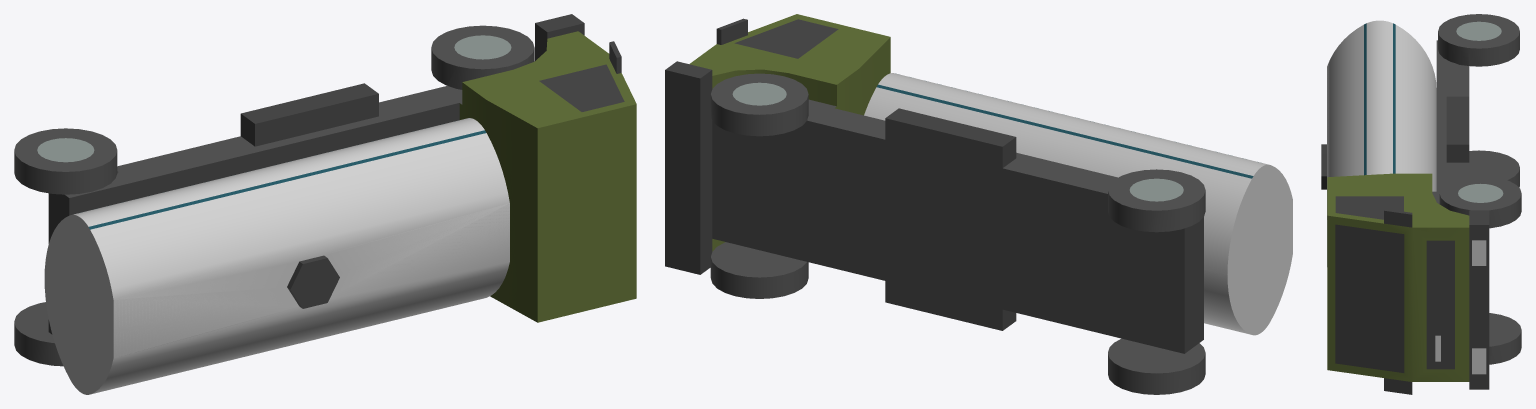
The model's file is tank_truck.dae.
The picture shows the model from 3 angles, left to right: view 1: azimuth 30°, elevation 25°; view 2: azimuth 150°, elevation 25°; view 3: azimuth 270°, elevation 25°; orthographic projection. The views are drawn at different scales.
Visible parts, largest first — view 1: coords_ME_ID19_MA___auto_218, coords_ME_ID33_MA___auto_4, coords_ME_ID11_MA_material, coords_ME_ID27_MA___auto_, coords_ME_ID3_MA___auto_, coords_ME_ID99_MA___auto_, coords_ME_ID67_MA___auto_, coords_ME_ID117_MA___auto_275, coords_ME_ID79_MA___auto_8, coords_ME_ID141_MA___auto_8, coords_ME_ID47_MA___auto_; view 2: coords_ME_ID11_MA_material, coords_ME_ID19_MA___auto_218, coords_ME_ID47_MA___auto_, coords_ME_ID33_MA___auto_4, coords_ME_ID27_MA___auto_, coords_ME_ID99_MA___auto_, coords_ME_ID3_MA___auto_, coords_ME_ID73_MA___auto_275, coords_ME_ID141_MA___auto_8, coords_ME_ID79_MA___auto_8, coords_ME_ID87_MA___auto_; view 3: coords_ME_ID19_MA___auto_218, coords_ME_ID33_MA___auto_4, coords_ME_ID11_MA_material, coords_ME_ID129_MA___auto_, coords_ME_ID93_MA___auto_, coords_ME_ID47_MA___auto_, coords_ME_ID3_MA___auto_, coords_ME_ID99_MA___auto_, coords_ME_ID141_MA___auto_8, coords_ME_ID79_MA___auto_8, coords_ME_ID117_MA___auto_275, coords_ME_ID73_MA___auto_275 (+5 smaller).
Part boxes in pixels (bbox=[...]): coords_ME_ID19_MA___auto_218: bbox=[44, 118, 509, 394]; coords_ME_ID33_MA___auto_4: bbox=[459, 31, 636, 322]; coords_ME_ID11_MA_material: bbox=[14, 25, 534, 366]; coords_ME_ID27_MA___auto_: bbox=[48, 103, 459, 334]; coords_ME_ID3_MA___auto_: bbox=[240, 83, 378, 146]; coords_ME_ID99_MA___auto_: bbox=[539, 64, 624, 111]; coords_ME_ID67_MA___auto_: bbox=[287, 255, 339, 308]; coords_ME_ID117_MA___auto_275: bbox=[89, 130, 486, 229]; coords_ME_ID79_MA___auto_8: bbox=[454, 35, 511, 59]; coords_ME_ID141_MA___auto_8: bbox=[37, 138, 94, 162]; coords_ME_ID47_MA___auto_: bbox=[535, 14, 584, 60]; coords_ME_ID11_MA_material: bbox=[710, 73, 1205, 394]; coords_ME_ID19_MA___auto_218: bbox=[864, 73, 1292, 335]; coords_ME_ID47_MA___auto_: bbox=[665, 61, 712, 274]; coords_ME_ID33_MA___auto_4: bbox=[689, 14, 890, 251]; coords_ME_ID27_MA___auto_: bbox=[1002, 217, 1203, 353]; coords_ME_ID99_MA___auto_: bbox=[734, 19, 838, 58]; coords_ME_ID3_MA___auto_: bbox=[885, 108, 1016, 167]; coords_ME_ID73_MA___auto_275: bbox=[876, 84, 1253, 178]; coords_ME_ID141_MA___auto_8: bbox=[1129, 178, 1183, 201]; coords_ME_ID79_MA___auto_8: bbox=[732, 82, 786, 105]; coords_ME_ID87_MA___auto_: bbox=[716, 18, 747, 44]; coords_ME_ID19_MA___auto_218: bbox=[1327, 20, 1436, 266]; coords_ME_ID33_MA___auto_4: bbox=[1327, 173, 1469, 381]; coords_ME_ID11_MA_material: bbox=[1432, 14, 1521, 364]; coords_ME_ID129_MA___auto_: bbox=[1335, 224, 1404, 372]; coords_ME_ID93_MA___auto_: bbox=[1426, 240, 1454, 369]; coords_ME_ID47_MA___auto_: bbox=[1469, 210, 1489, 389]; coords_ME_ID3_MA___auto_: bbox=[1446, 96, 1469, 162]; coords_ME_ID99_MA___auto_: bbox=[1335, 196, 1403, 219]; coords_ME_ID141_MA___auto_8: bbox=[1456, 21, 1501, 40]; coords_ME_ID79_MA___auto_8: bbox=[1458, 183, 1503, 202]; coords_ME_ID117_MA___auto_275: bbox=[1364, 23, 1366, 175]; coords_ME_ID73_MA___auto_275: bbox=[1393, 23, 1395, 173].
Size of the model in its own units: 59.25 by 22.92 by 23.09.
